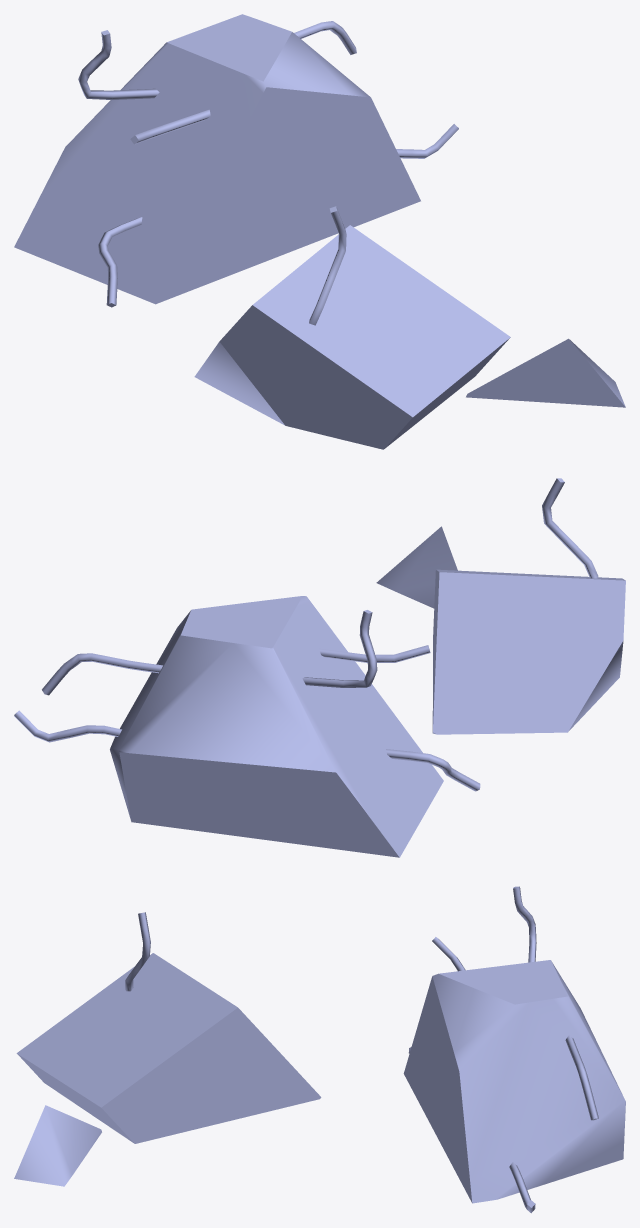
File: ConcreteStackCell_02.fbx
3 renders of one model, top to bottom at view 1: azimuth 30°, elevation 25°; view 2: azimuth 150°, elevation 25°; view 3: azimuth 270°, elevation 25°, orthographic. The views are drawn at different scales.
Visible parts, largest first — view 1: Concrete_Stack_Cell_02_LOD0; view 2: Concrete_Stack_Cell_02_LOD0; view 3: Concrete_Stack_Cell_02_LOD0.
Boxes of the visible parts, x1,y1,x2,y2 form: Concrete_Stack_Cell_02_LOD0: [14, 14, 625, 449]; Concrete_Stack_Cell_02_LOD0: [14, 478, 625, 857]; Concrete_Stack_Cell_02_LOD0: [14, 886, 625, 1213].
Size of what is drawn, in the model's own units: 1.04 by 0.5008 by 1.44.
